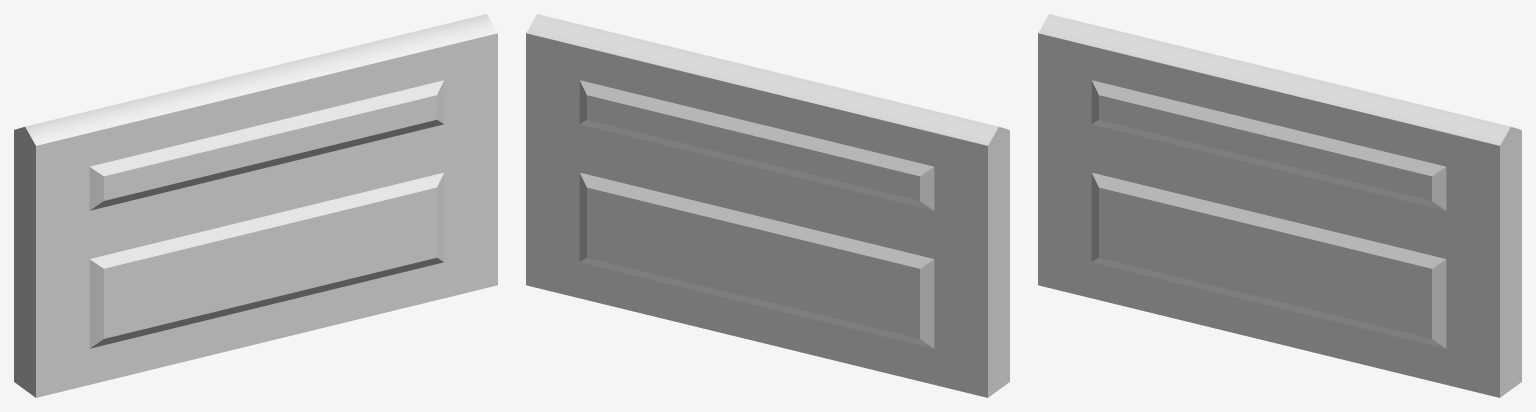
The model's file is Itr_Bed_Double_Back_04.FBX.
3 renders of one model, left to right at view 1: azimuth 30°, elevation 25°; view 2: azimuth 150°, elevation 25°; view 3: azimuth 330°, elevation 25°, orthographic.
Visible parts, largest first — view 1: Itr_Bed_Double_Back_04; view 2: Itr_Bed_Double_Back_04; view 3: Itr_Bed_Double_Back_04.
Boxes of the visible parts, x1,y1,x2,y2 form: Itr_Bed_Double_Back_04: (14,14,497,397); Itr_Bed_Double_Back_04: (526,14,1009,397); Itr_Bed_Double_Back_04: (1038,14,1521,397).
Size of the model in its own units: 68.66 by 37.4 by 7.45.
